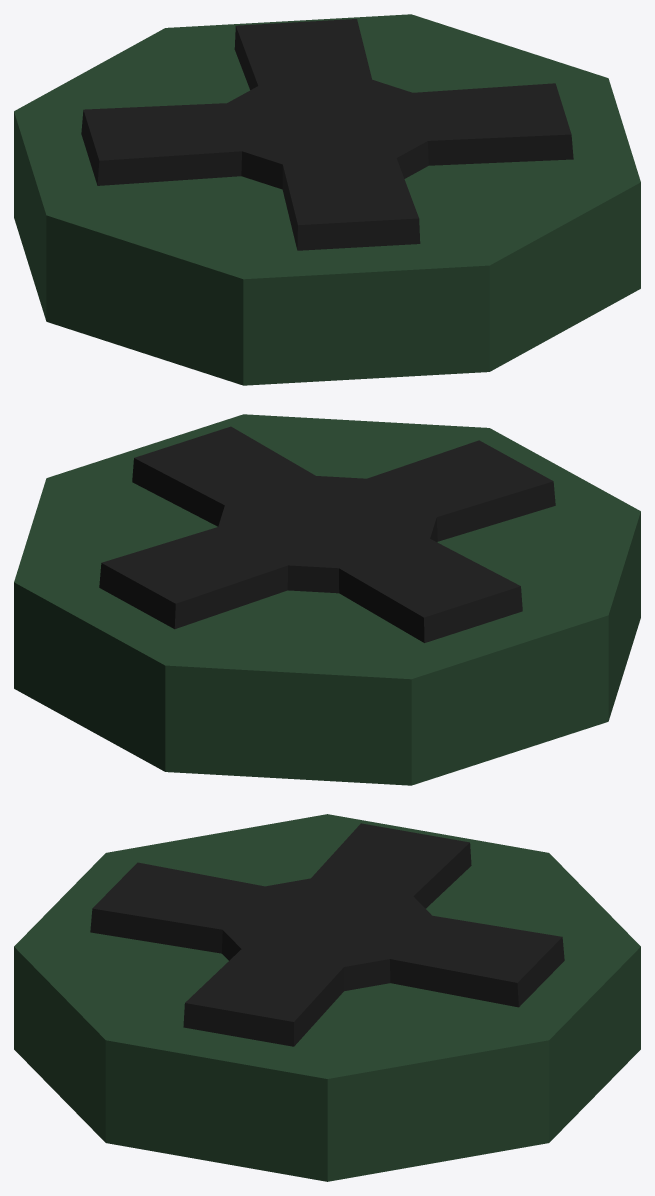
File: claymore_3.fbx
The picture shows the model from 3 angles, top to bottom: view 1: azimuth 30°, elevation 25°; view 2: azimuth 150°, elevation 25°; view 3: azimuth 270°, elevation 25°; orthographic projection. The views are drawn at different scales.
Visible parts, largest first — view 1: body.012; view 2: body.012; view 3: body.012.
Part boxes in pixels (x1,y1,x2,y2): body.012: (14,14,640,385); body.012: (14,414,640,785); body.012: (14,814,640,1181).
Bounding box in the file's own units: 200 × 200 × 44.59.
